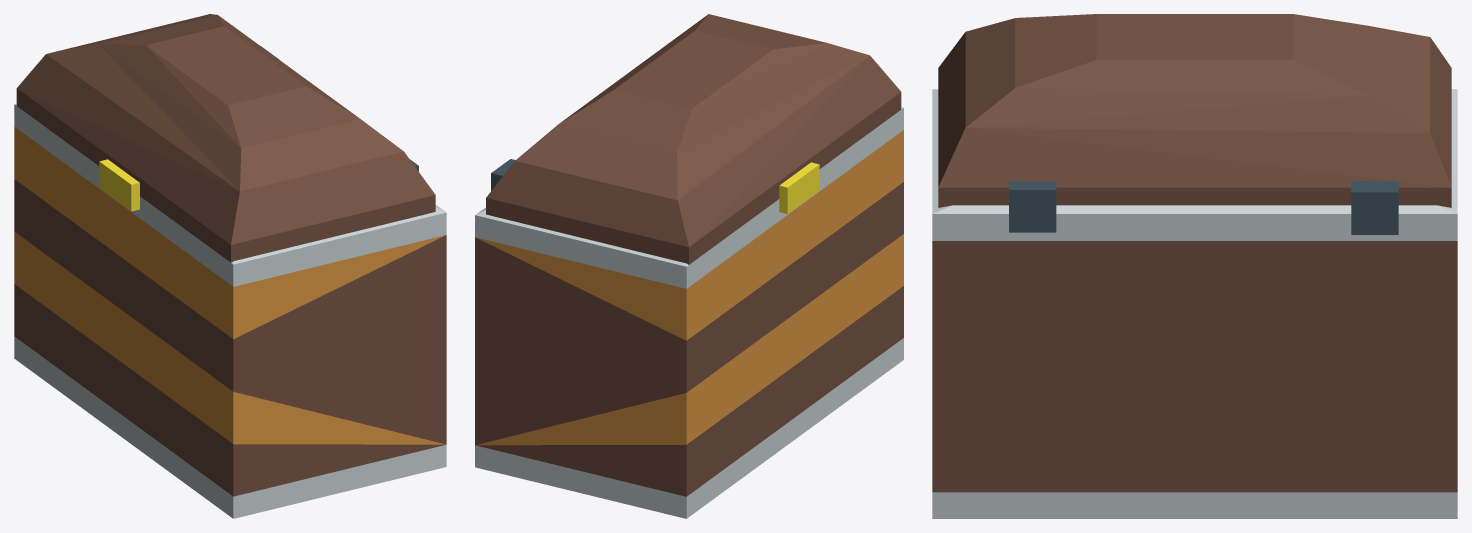
The model's file is chest-by-thomas-dr-5l4tKhuqWIn.glb.
3 renders of one model, left to right at view 1: azimuth 30°, elevation 25°; view 2: azimuth 150°, elevation 25°; view 3: azimuth 270°, elevation 25°, orthographic. The views are drawn at different scales.
Visible parts, largest first — view 1: group1641528279, group1435789467; view 2: group1641528279, group1435789467; view 3: group1641528279, group1435789467, group924839838, group435871425.
Part boxes in pixels (x1=…): group1641528279: x1=14, y1=103, x2=446, y2=518; group1435789467: x1=16, y1=14, x2=435, y2=262; group1641528279: x1=475, y1=107, x2=903, y2=518; group1435789467: x1=486, y1=14, x2=901, y2=264; group1641528279: x1=932, y1=89, x2=1457, y2=518; group1435789467: x1=938, y1=14, x2=1451, y2=207; group924839838: x1=1351, y1=181, x2=1398, y2=234; group435871425: x1=1009, y1=181, x2=1056, y2=232.
Size of the model in its own units: 0.54 by 0.78 by 0.89.
